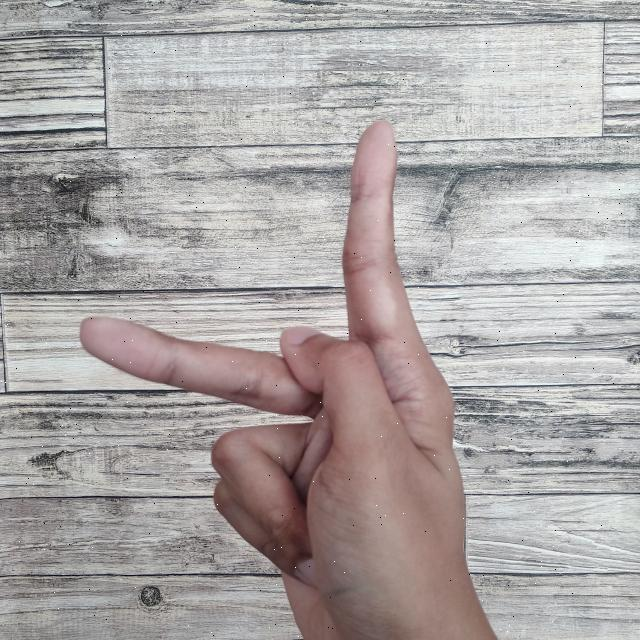K: (72, 109, 508, 640)
